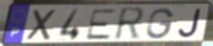4: (57, 8, 82, 43)
E: (84, 8, 117, 41)
G: (145, 7, 175, 41)
J: (177, 8, 203, 39)
R: (112, 6, 148, 43)
X: (25, 8, 59, 42)
